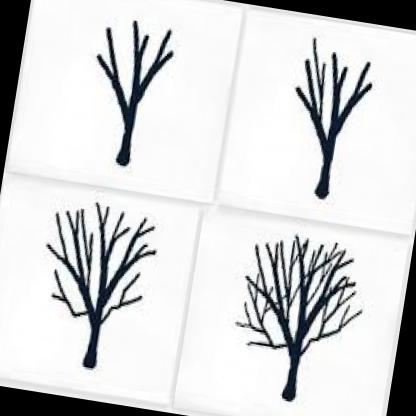branch_cut: (290, 34, 378, 150), (88, 19, 176, 128)
branch_sharp: (234, 230, 374, 364), (36, 202, 161, 331)
trunk_straight: (314, 157, 338, 187), (116, 125, 137, 154), (282, 362, 304, 388)
